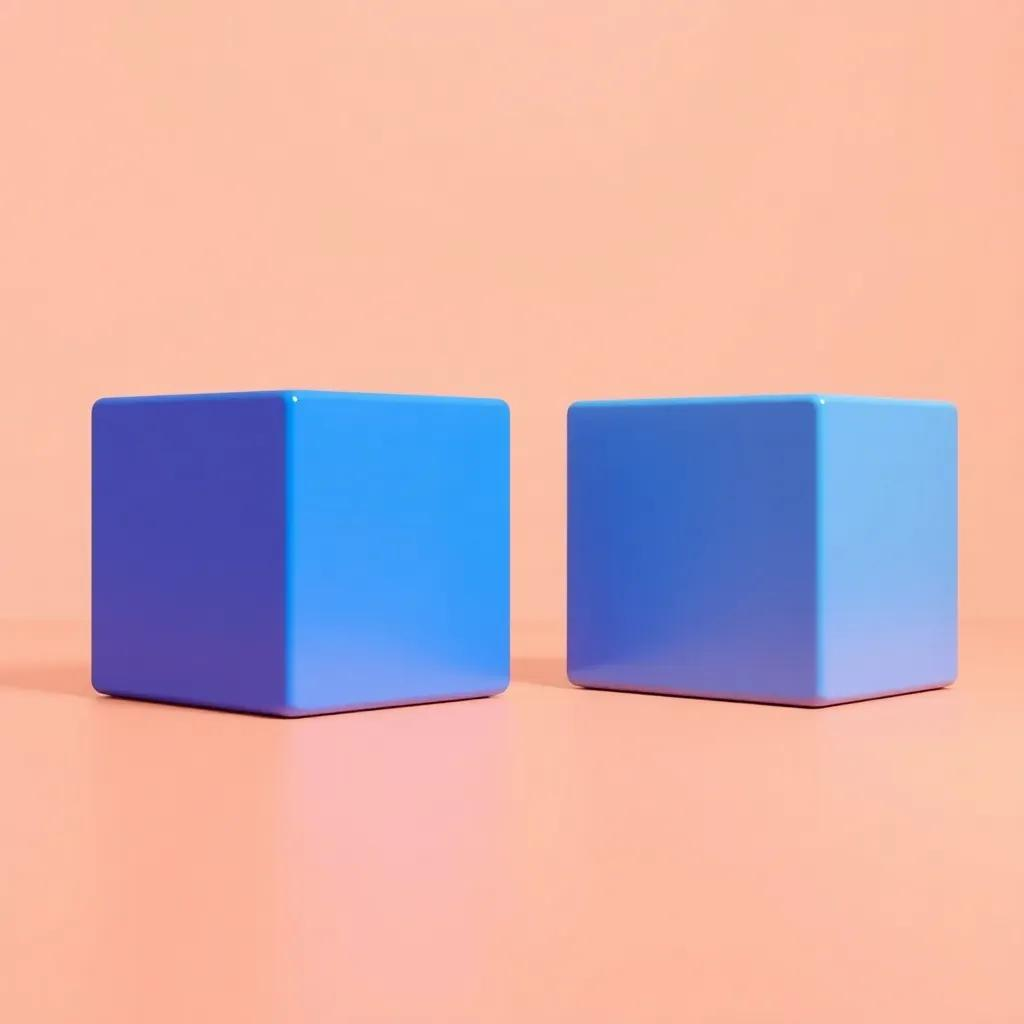cube: (89, 387, 511, 718), (564, 391, 959, 708)
